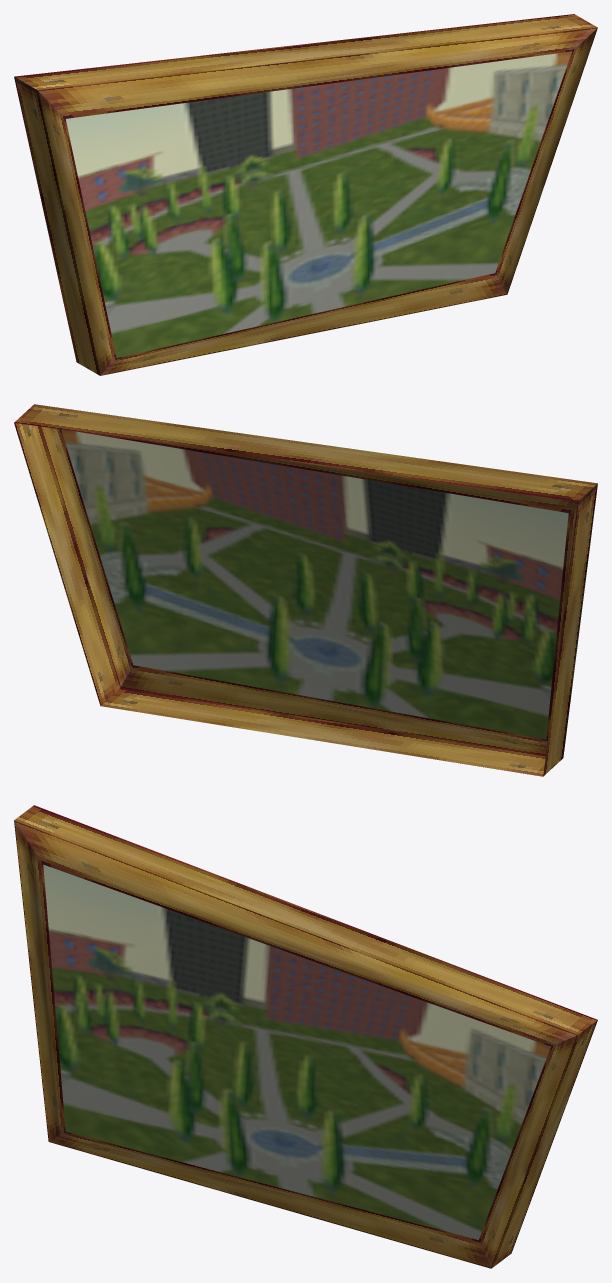
File: Urban_CentralPark_Sign.FBX
3 renders of one model, top to bottom at view 1: azimuth 30°, elevation 25°; view 2: azimuth 150°, elevation 25°; view 3: azimuth 330°, elevation 25°, orthographic. The views are drawn at different scales.
Parts seen in each view (by area): view 1: sign; view 2: sign; view 3: sign.
Part boxes in pixels (left/top/right/bottom): sign: left=14, top=14, right=597, bottom=375; sign: left=14, top=404, right=597, bottom=776; sign: left=14, top=805, right=597, bottom=1268.
Size of the model in its own units: 349 by 190 by 39.45.
